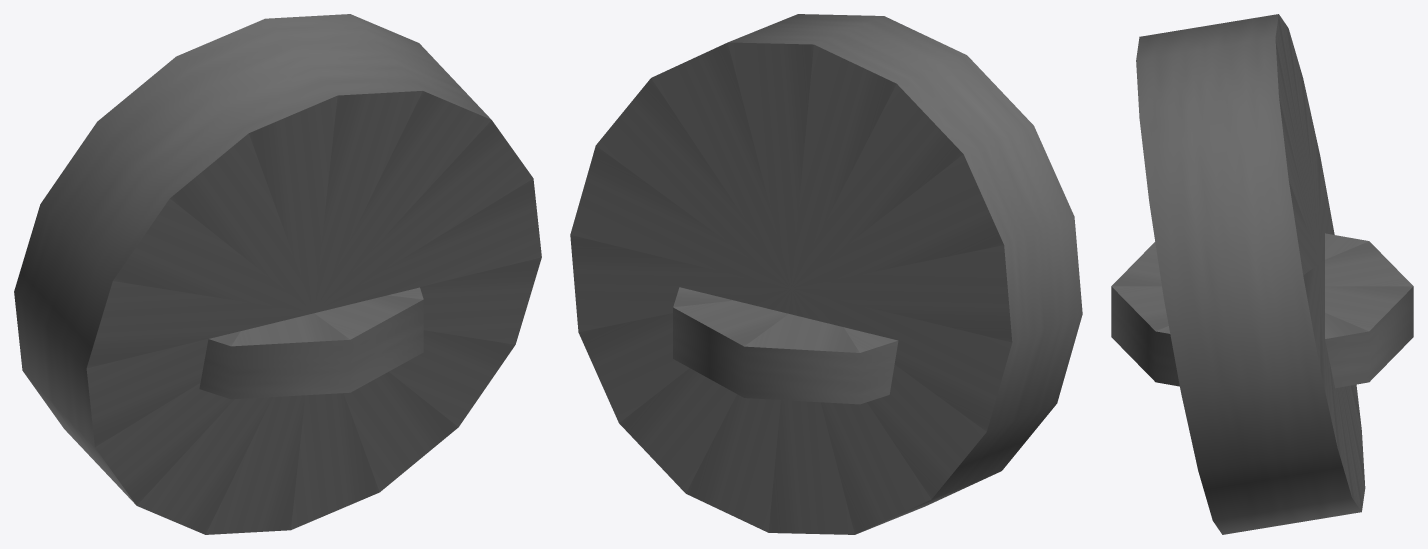
Rendered from mastarmcurve_10x2_c7_down.obj.
3 views of the same model, side by side, from view 1: azimuth 30°, elevation 25°; view 2: azimuth 150°, elevation 25°; view 3: azimuth 270°, elevation 25° (orthographic). The views are drawn at different scales.
Visible parts, largest first — view 1: mastarm_10x2_c7_down; view 2: mastarm_10x2_c7_down; view 3: mastarm_10x2_c7_down.
Part boxes in pixels (x1,y1,x2,y2): mastarm_10x2_c7_down: (14, 14, 541, 534); mastarm_10x2_c7_down: (570, 14, 1082, 534); mastarm_10x2_c7_down: (1111, 14, 1413, 534).
Size of the model in its own units: 0.6689 by 0.6916 by 0.4.
